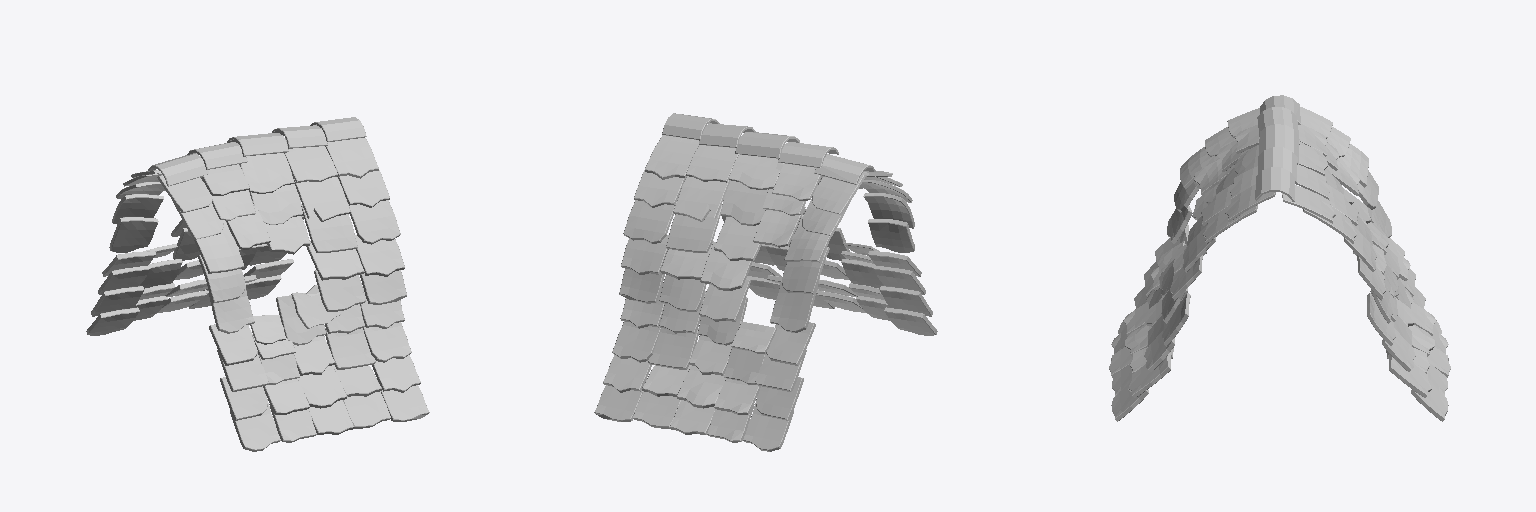
The model's file is Telhado.obj.
The picture shows the model from 3 angles: view 1: azimuth 30°, elevation 25°; view 2: azimuth 150°, elevation 25°; view 3: azimuth 270°, elevation 25°; orthographic projection.
Visible parts, largest first — view 1: skridle2; view 2: skridle2; view 3: skridle2.
Part boxes in pixels (left/top/right/bottom): skridle2: left=86, top=117, right=429, bottom=451; skridle2: left=594, top=113, right=937, bottom=451; skridle2: left=1109, top=95, right=1450, bottom=421.
Size of the model in its own units: 0.0472 by 0.0554 by 0.0701.